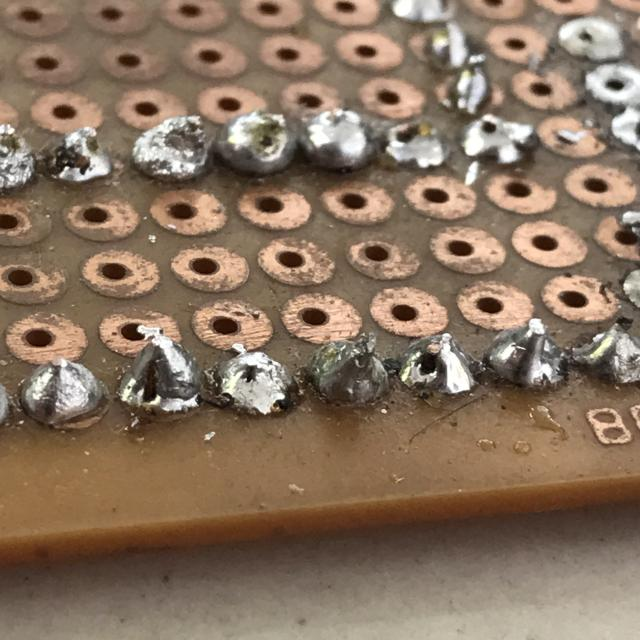hole: (110, 338, 206, 426), (205, 346, 303, 428), (393, 331, 483, 411)
pad_less: (13, 353, 116, 441)
